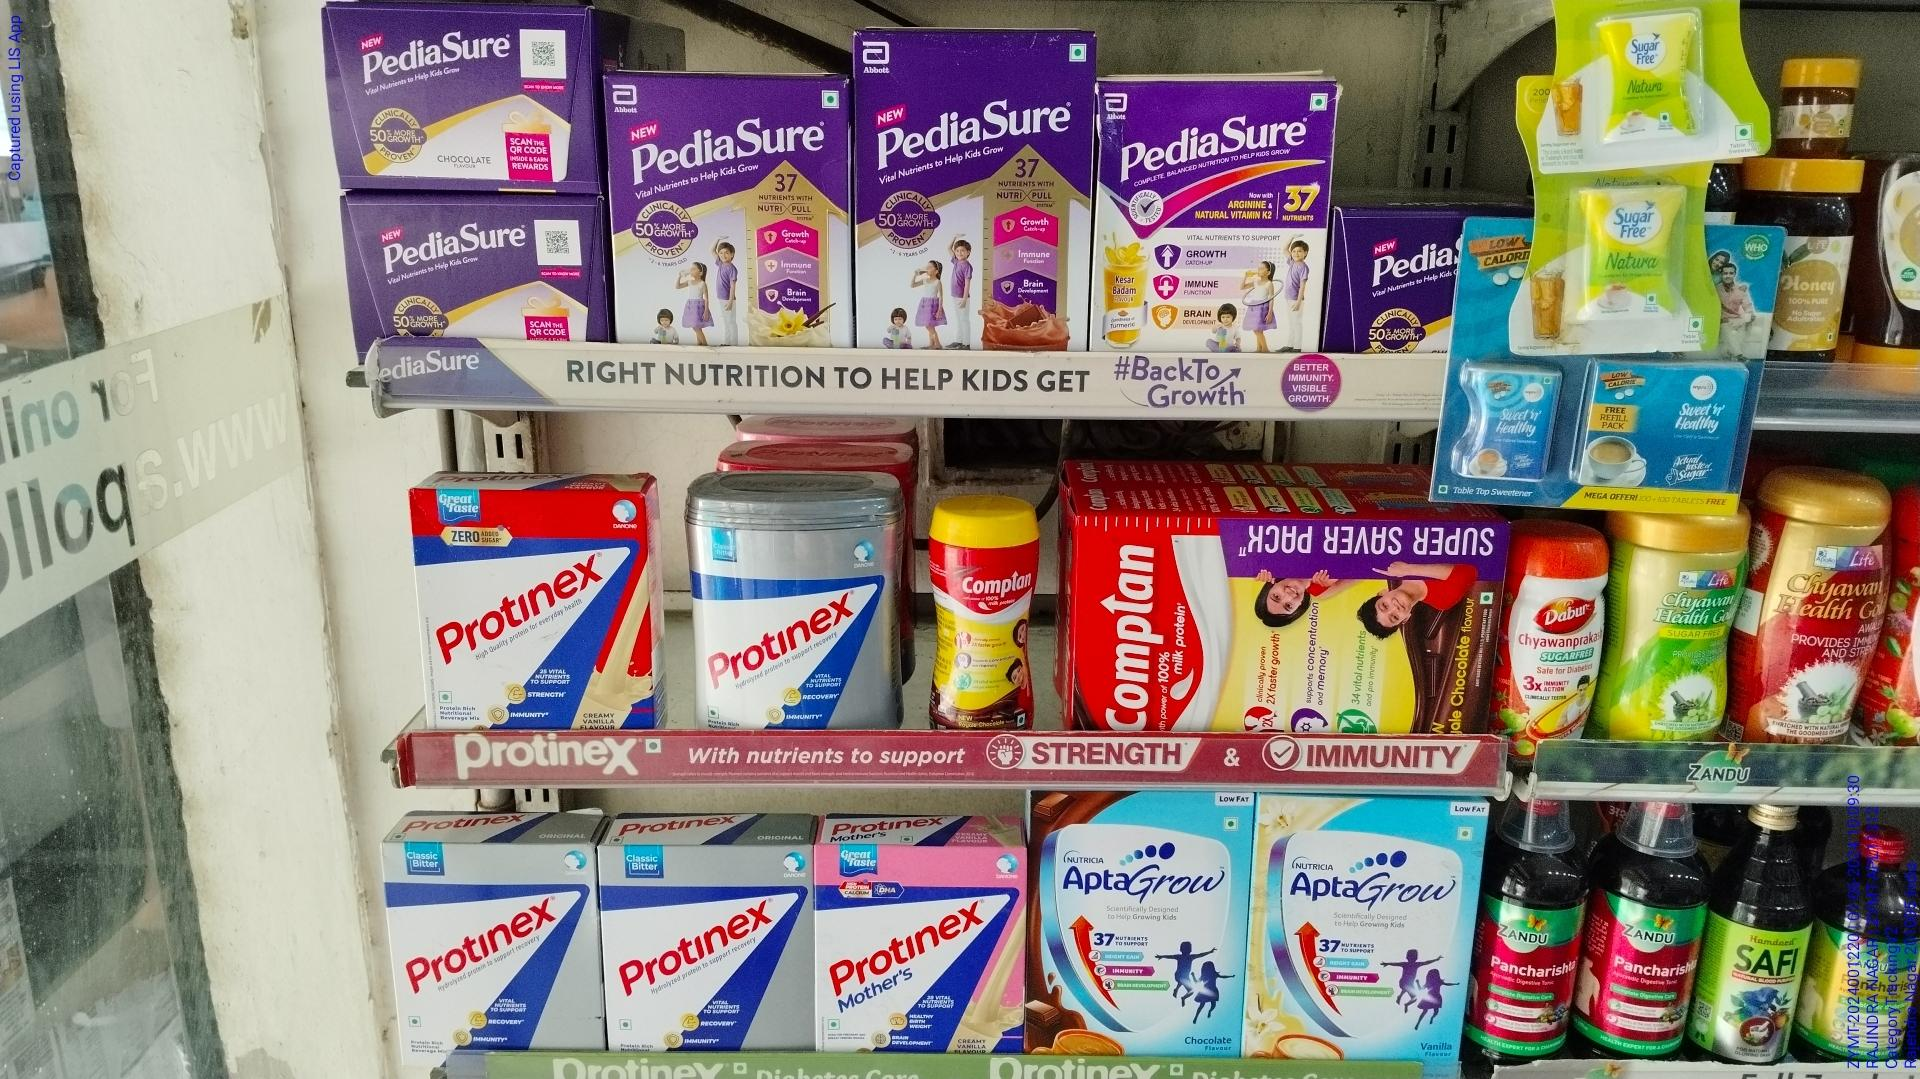COMPLAN_CHOCOLATE_500_GMS_JAR: (927, 508, 1038, 729)
PEDIASURE_CHOCOLATE_500_G_PACK: (861, 33, 1091, 350)
PEDIASURE_VANILLA_500_G_PACK: (609, 74, 853, 347)
PROTINEX_ORIGINAL_400_G_JAR: (699, 500, 902, 731)
PROTINEX_VANILLA_400_G_JAR: (400, 487, 665, 735)
